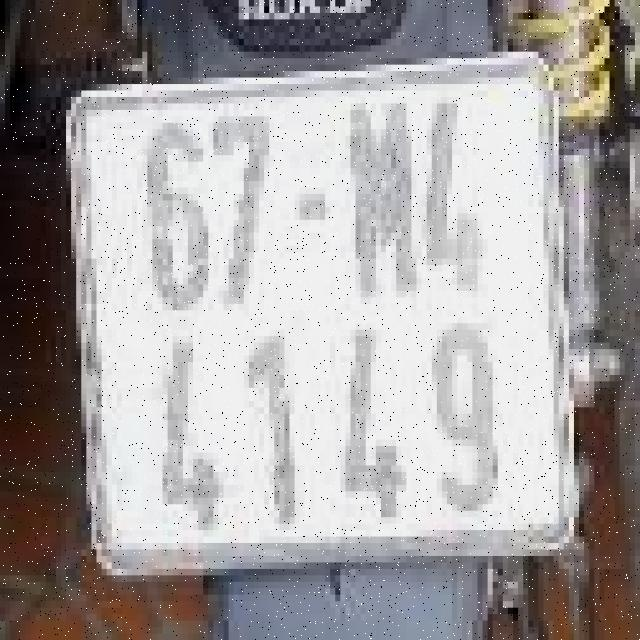1: (246, 330, 318, 530)
4: (422, 81, 498, 320), (338, 320, 409, 540), (165, 333, 231, 553)
6: (140, 116, 210, 317)
7: (208, 110, 274, 317)
9: (424, 316, 506, 524)
M: (343, 97, 414, 304)
